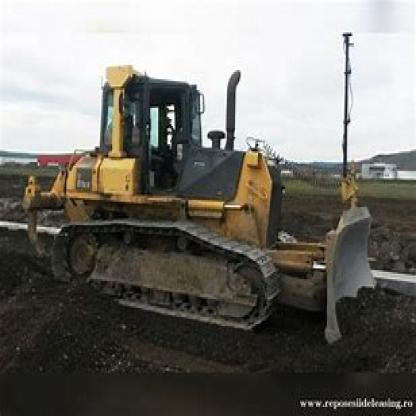bull_dozer/loader/grader: (23, 59, 384, 353)
